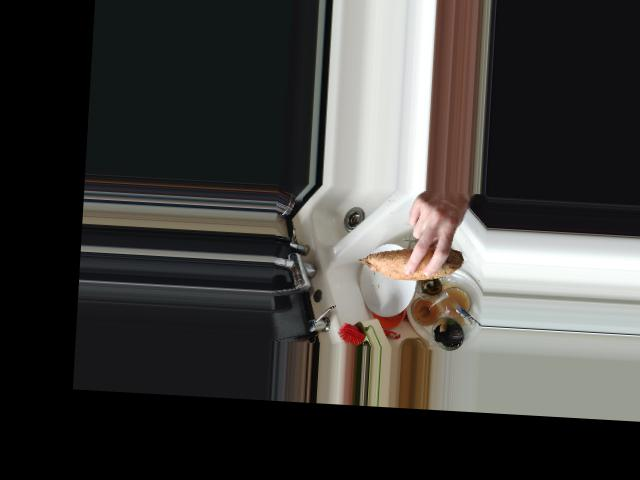sweet_potato: (353, 237, 467, 282)
